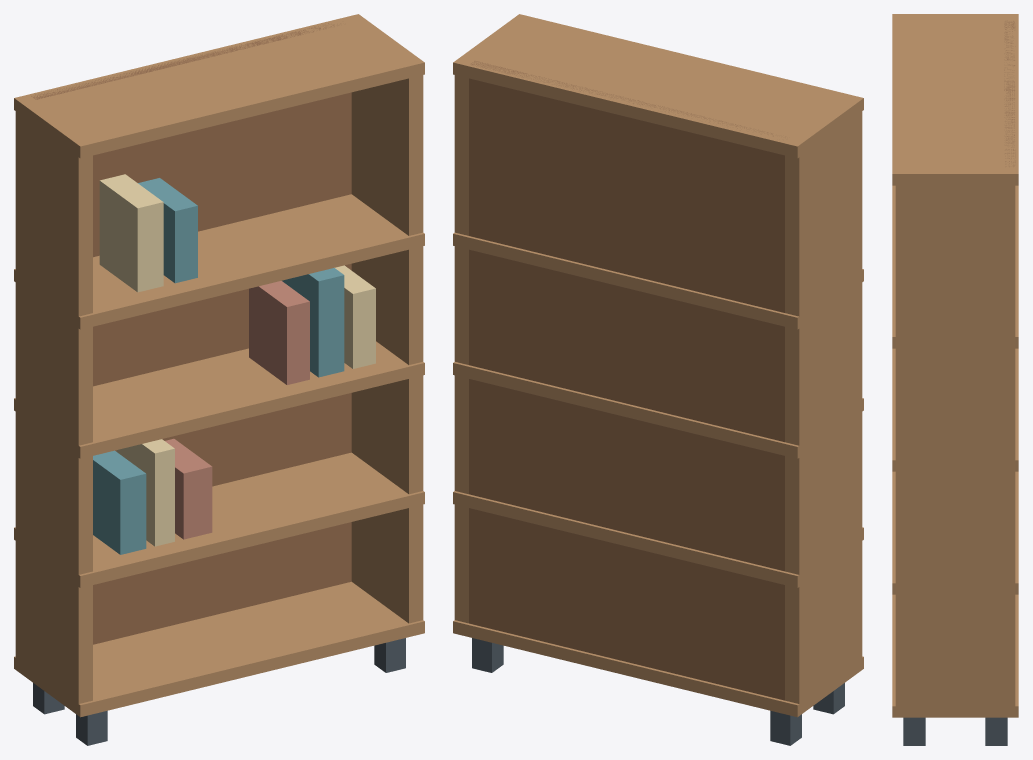
The model's file is Shelf_Bookcase_120.fbx.
3 views of the same model, side by side, from view 1: azimuth 30°, elevation 25°; view 2: azimuth 150°, elevation 25°; view 3: azimuth 270°, elevation 25° (orthographic). The views are drawn at different scales.
Parts seen in each view (by area): view 1: Shelf_Bookcase_120; view 2: Shelf_Bookcase_120; view 3: Shelf_Bookcase_120.
Boxes of the visible parts, left/top/right/bottom form: Shelf_Bookcase_120: left=14, top=14, right=424, bottom=745; Shelf_Bookcase_120: left=453, top=14, right=863, bottom=745; Shelf_Bookcase_120: left=892, top=14, right=1018, bottom=745.
Bounding box in the file's own units: 1.2 × 2.02 × 0.4.
